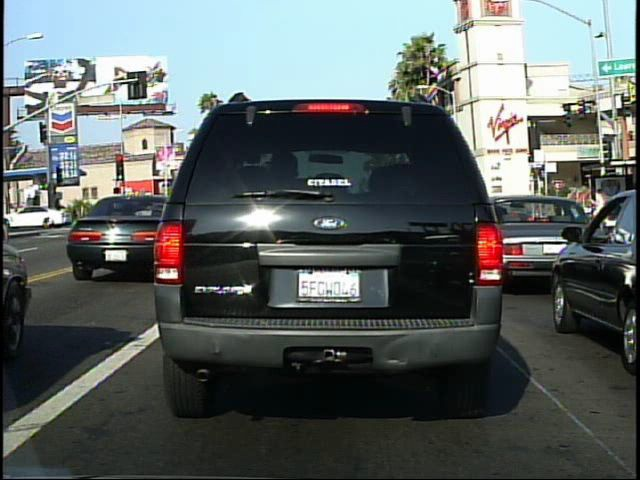person: (589, 184, 612, 240)
